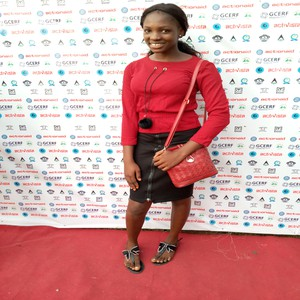Fulokoja_female_student: (134, 6, 216, 260)
